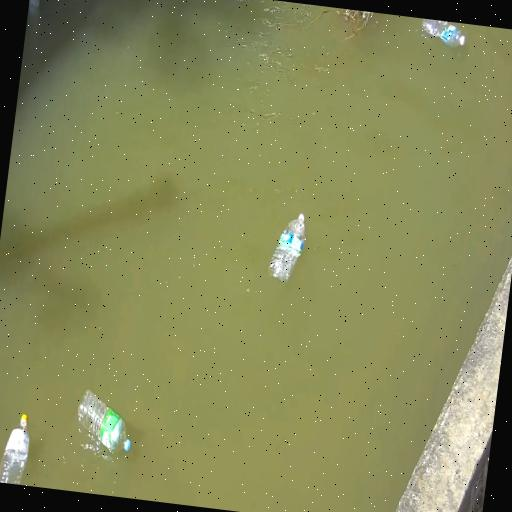plastic: (78, 391, 130, 452), (269, 214, 305, 282), (0, 415, 29, 484), (423, 19, 465, 47)
